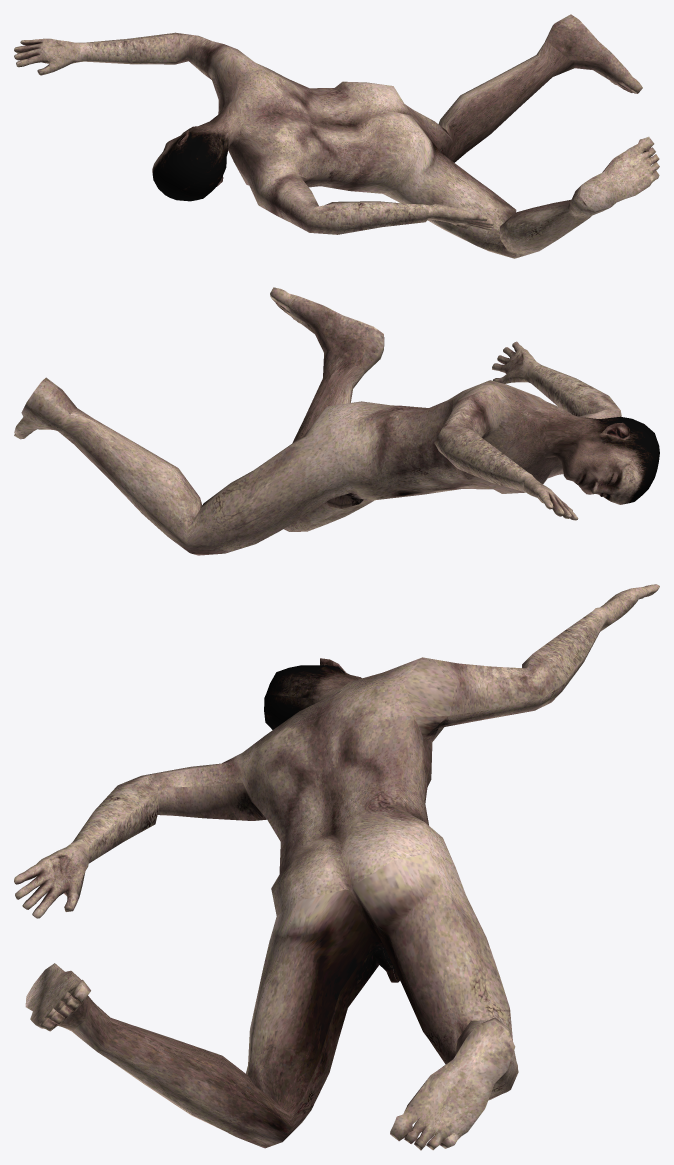
The model's file is graveyard_corpse01.dae.
3 renders of one model, top to bottom at view 1: azimuth 30°, elevation 25°; view 2: azimuth 150°, elevation 25°; view 3: azimuth 270°, elevation 25°, orthographic. The views are drawn at different scales.
Visible parts, largest first — view 1: graveyard_corpse01; view 2: graveyard_corpse01; view 3: graveyard_corpse01.
Part boxes in pixels (x1,y1,x2,y2): graveyard_corpse01: (14, 14, 659, 258); graveyard_corpse01: (14, 287, 659, 555); graveyard_corpse01: (14, 584, 659, 1150).
Size of the model in its own units: 1.89 by 0.7195 by 1.3.
